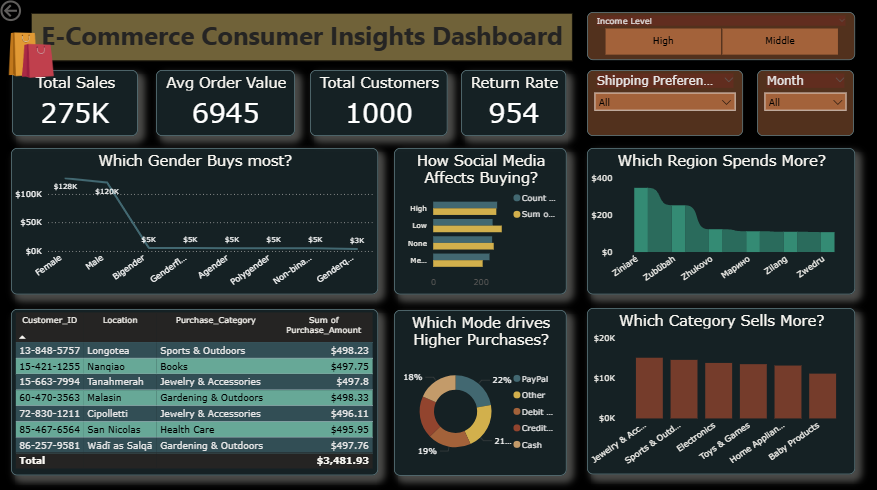

This screenshot's page, from the dashboard's own definition file:
{"tool":"powerbi","page":{"name":"Page 1","canvas":[1280,720],"ordinal":0},"visuals":[{"type":"card","title":"Total Sales","fields":{"Values":["Sum(Products_table.Purchase_Amount)"]},"box":[21.8,106.7,182.9,95.8],"z":0},{"type":"card","title":"Avg Order Value","fields":{"Values":["Sum(Products_table.Frequency_of_Purchase)"]},"box":[230.7,106.7,202.4,95.8],"z":1000},{"type":"card","title":"Total Customers","fields":{"Values":["CountNonNull(Products_table.Customer_ID)"]},"box":[455,106.7,200.3,95.8],"z":2000},{"type":"clusteredColumnChart","title":"Which Category Sells More?","fields":{"Category":["Products_table.Purchase_Category"],"Y":["Sum(Products_table.Purchase_Amount)"]},"box":[857.7,452.8,389.7,241.6],"z":3000},{"type":"actionButton","box":[0,0,100,40],"z":4000},{"type":"ribbonChart","title":"Which Region Spends More?","fields":{"Category":["Customer_table.Location"],"Y":["Sum(Products_table.Purchase_Amount)"]},"box":[857.7,219.9,389.7,213.3],"z":5000},{"type":"donutChart","title":"Which Mode drives Higher Purchases?","fields":{"Y":["Sum(Products_table.Purchase_Amount)"],"Category":["Products_table.Payment_Method"]},"box":[577.2,455.1,251.1,240.7],"z":6000},{"type":"card","title":"Return Rate","fields":{"Values":["Sum(Products_table.Return_Rate)"]},"box":[674.9,106.4,153.5,95.9],"z":7000},{"type":"lineChart","title":"Which Gender Buys most?","fields":{"Category":["Customer_table.Gender"],"Y":["Sum(Products_table.Purchase_Amount)"]},"box":[20.9,219.7,533.6,212.8],"z":8000},{"type":"tableEx","fields":{"Values":["Products_table.Customer_ID","Customer_table.Location","Customer_table.Purchase_Category","Sum(Products_table.Purchase_Amount)"]},"box":[20.9,453.4,533.6,242.4],"z":9000},{"type":"clusteredBarChart","title":"How Social Media Affects Buying?","fields":{"Category":["Products_table.Social_Media_Influence"],"Y":["CountNonNull(Products_table.Time_of_Purchase)","Sum(Products_table.Time_Spent_on_Product_Research(hours))"]},"box":[577.2,219.7,251.1,212.8],"z":10000},{"type":"slicer","fields":{"Values":["Products_table.Time_of_Purchase.Variation.Date Hierarchy.Month"]},"box":[1105.6,106.4,141.3,95.9],"z":11000},{"type":"slicer","fields":{"Values":["Customer_table.Income_Level"]},"box":[857.7,21.8,389.7,69.7],"z":12000},{"type":"slicer","fields":{"Values":["Products_table.Shipping_Preference"]},"box":[858,106.4,226.7,95.9],"z":13000},{"type":"textbox","box":[49.5,23.3,788.4,69.8],"z":14000},{"type":"image","box":[0,46.5,100.4,75.6],"z":15000}]}

Visuals, with their boxes in screenshot pixels (x1, y1, x2, y2), scaled from the page's 1280x720 canvas onto the 877x490 screenshot:
"Total Sales" card: x1=15 y1=73 x2=140 y2=138
"Avg Order Value" card: x1=158 y1=73 x2=297 y2=138
"Total Customers" card: x1=312 y1=73 x2=449 y2=138
"Which Category Sells More?" clusteredColumnChart: x1=588 y1=308 x2=855 y2=473
actionButton: x1=0 y1=0 x2=69 y2=27
"Which Region Spends More?" ribbonChart: x1=588 y1=150 x2=855 y2=295
"Which Mode drives Higher Purchases?" donutChart: x1=395 y1=310 x2=568 y2=474
"Return Rate" card: x1=462 y1=72 x2=568 y2=138
"Which Gender Buys most?" lineChart: x1=14 y1=150 x2=380 y2=294
tableEx - Products_table.Customer_ID x Customer_table.Location: x1=14 y1=309 x2=380 y2=474
"How Social Media Affects Buying?" clusteredBarChart: x1=395 y1=150 x2=568 y2=294
slicer - Products_table.Time_of_Purchase.Variation.Date Hierarchy.Month: x1=758 y1=72 x2=854 y2=138
slicer - Customer_table.Income_Level: x1=588 y1=15 x2=855 y2=62
slicer - Products_table.Shipping_Preference: x1=588 y1=72 x2=743 y2=138
textbox: x1=34 y1=16 x2=574 y2=63
image: x1=0 y1=32 x2=69 y2=83
